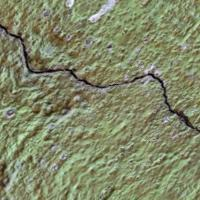crack: (1, 20, 199, 145)
